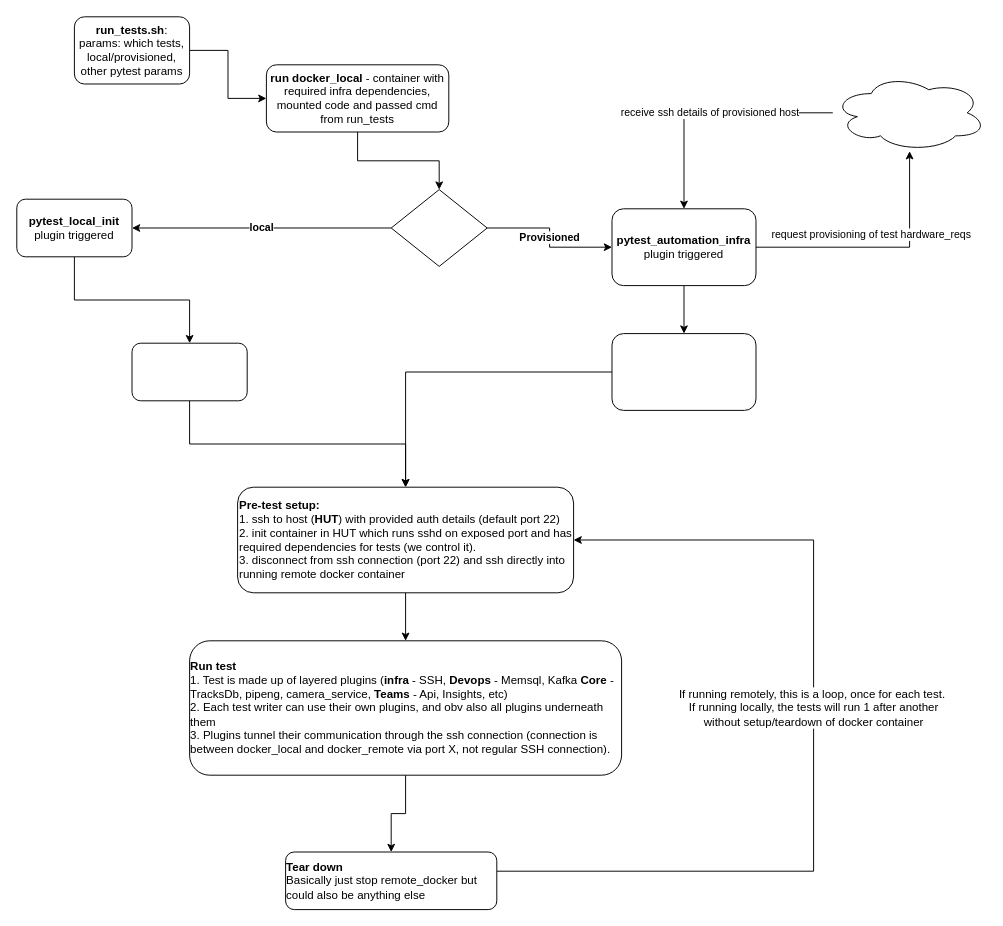
Image size: 1003x926. Some labels were removed from this diagram. The shapes that lost their labels are listed below. From the top down, each one's centre as x and y in pixels, then its label:
At [909,112]: "Provisioning Service".
At [438,227]: "Local / Provisioned".
At [189,371]: "Attach local_auth details to test session".
At [683,371]: "attach ssh details to test funcion".
